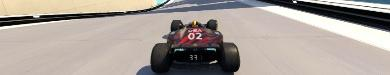Car: (149, 19, 240, 72)
curve: (0, 0, 389, 74)
obstacles-Borders: (0, 0, 174, 28)
